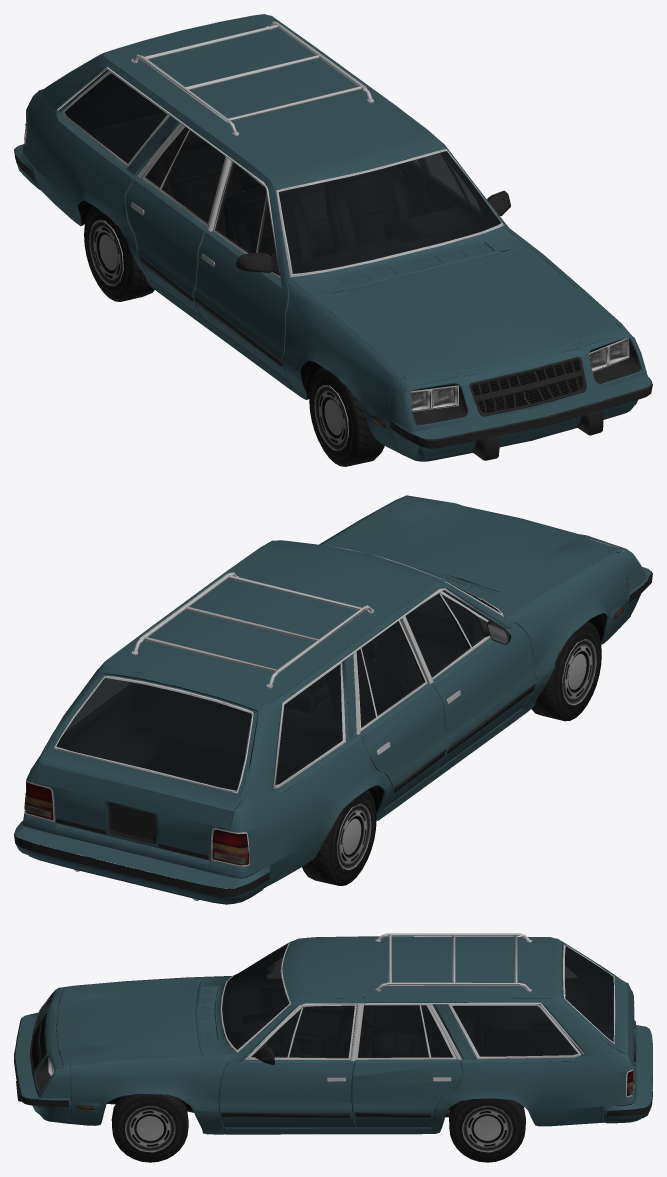
Rendered from wagon.glb.
The picture shows the model from 3 angles, top to bottom: view 1: azimuth 30°, elevation 25°; view 2: azimuth 150°, elevation 25°; view 3: azimuth 270°, elevation 25°; orthographic projection. The views are drawn at different scales.
Visible parts, largest first — view 1: wagon; view 2: wagon; view 3: wagon.
Part boxes in pixels (x1,y1,x2,y2): wagon: (14, 14, 652, 466); wagon: (14, 495, 652, 904); wagon: (14, 933, 652, 1162).
Size of the model in its own units: 1.85 by 1.4 by 5.02.
Materials: 6 (5 with a texture image).
